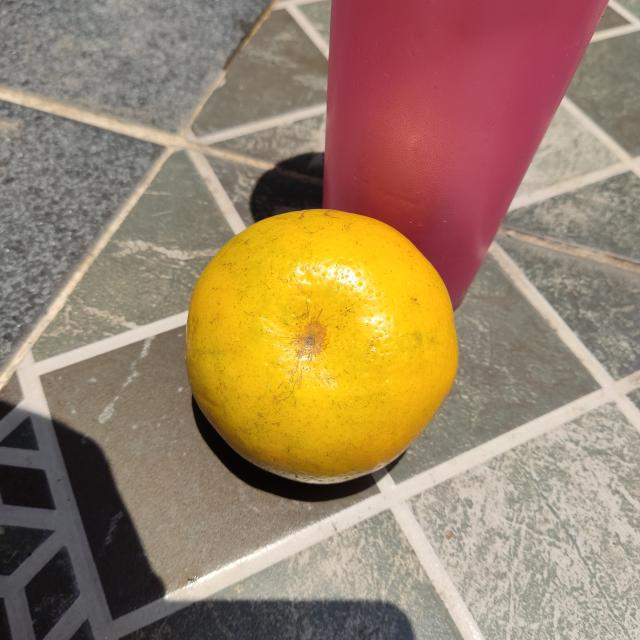orange: (187, 206, 459, 490)
